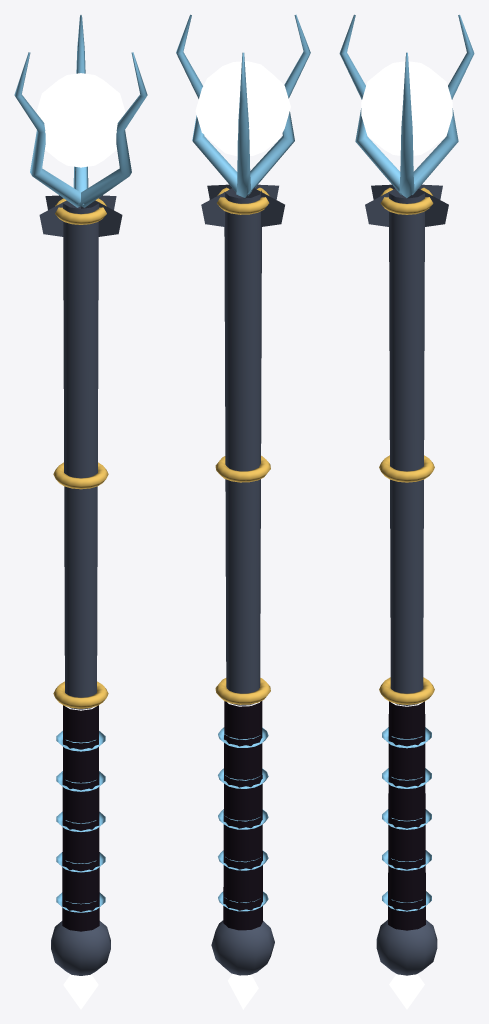
File: scepter_8.glb
3 renders of one model, left to right at view 1: azimuth 90°, elevation 25°; view 2: azimuth 150°, elevation 25°; view 3: azimuth 270°, elevation 25°, orthographic.
Parts seen in each view (by area): view 1: scepter_8; view 2: scepter_8; view 3: scepter_8.
Boxes of the visible parts, x1=… form: scepter_8: x1=14, y1=15, x2=147, y2=1009; scepter_8: x1=176, y1=14, x2=310, y2=1009; scepter_8: x1=339, y1=14, x2=474, y2=1009.
Bounding box in the file's own units: 0.1254 × 1.08 × 0.1348.
